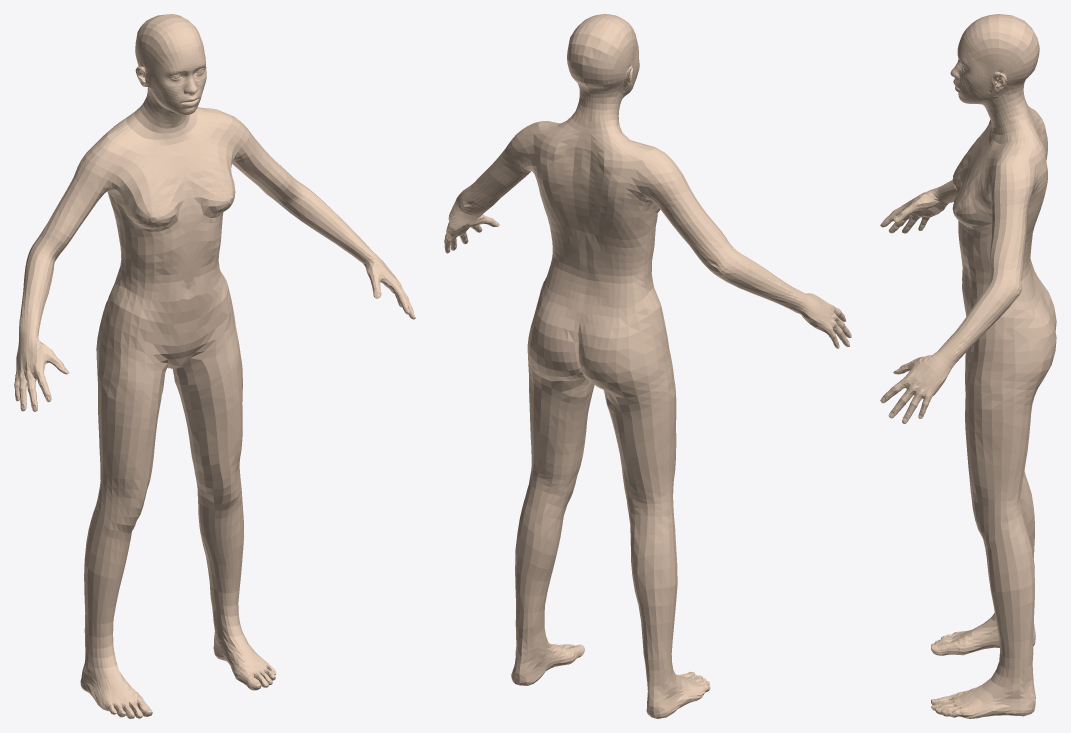
Rendered from female-young-lean-medium.glb.
The picture shows the model from 3 angles, left to right: view 1: azimuth 30°, elevation 25°; view 2: azimuth 150°, elevation 25°; view 3: azimuth 270°, elevation 25°; orthographic projection.
Parts seen in each view (by area): view 1: world; view 2: world; view 3: world.
Boxes of the visible parts, x1,y1,x2,y2 form: world: (14,14,415,718); world: (444,14,851,718); world: (880,14,1056,718).
Size of the model in its own units: 1.1 by 1.78 by 0.4283.
